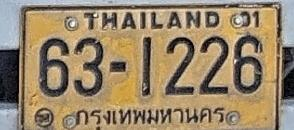1: (142, 37, 152, 96)
2: (199, 35, 229, 94), (164, 36, 194, 94)
3: (74, 37, 104, 96)
6: (39, 38, 69, 96), (234, 34, 262, 93)
BKK: (74, 104, 228, 130)
